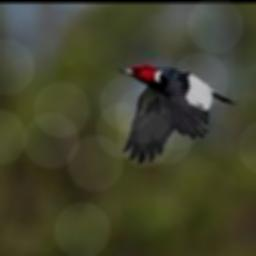Woodpecker: (119, 64, 239, 163)
